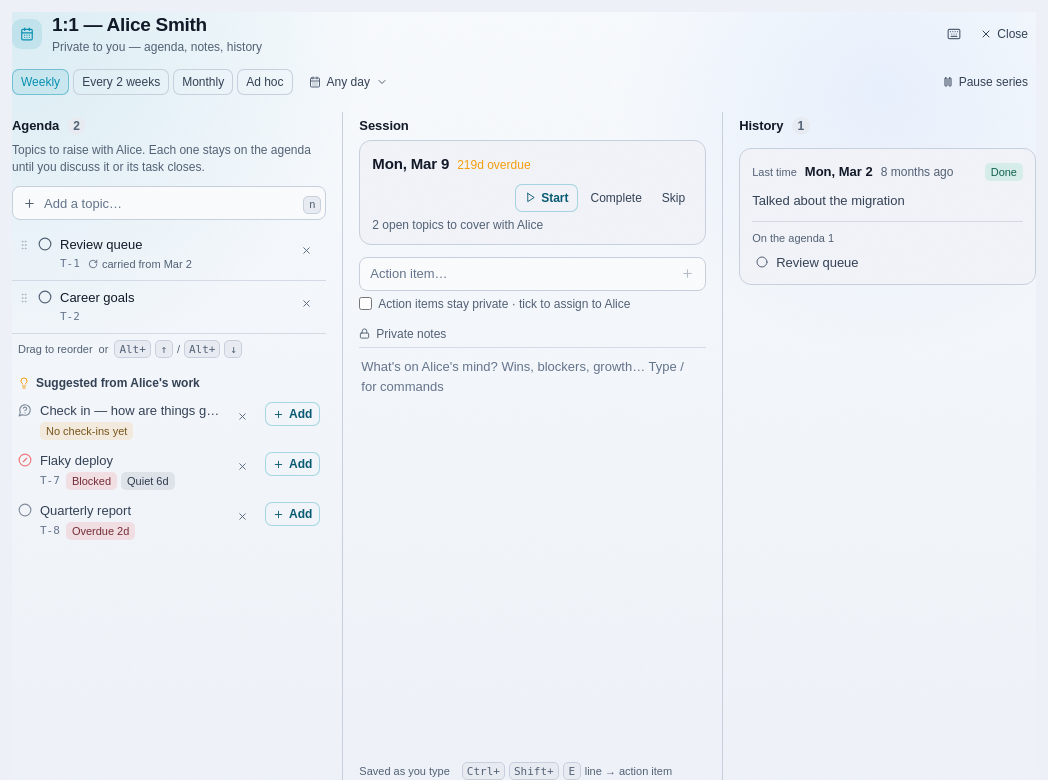
OneOnOneWorkspace — agenda guidance and suggestions › offers one-tap suggestions with reasons, including a no-check-in topic
The width and height of the screenshot is (1048, 780).
Expected: the heading "Suggested from Alice's work" is shown, [36, 374, 200, 392]
Expected: the text "Blocked" is shown, [66, 472, 117, 490]
Click the button with aria-label "Add to agenda: Flaky deploy" at (293, 464), box [265, 452, 320, 476]
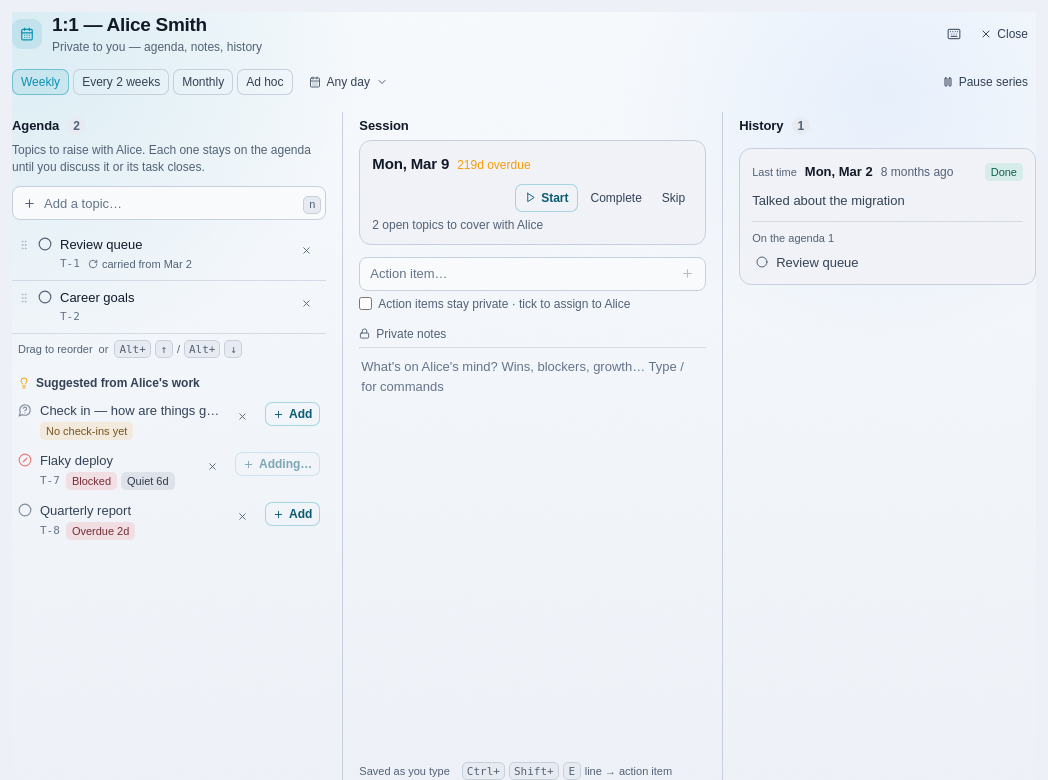
Click the button with aria-label "Add to agenda: Check in — how are things going?" at (293, 414), box [265, 402, 320, 426]
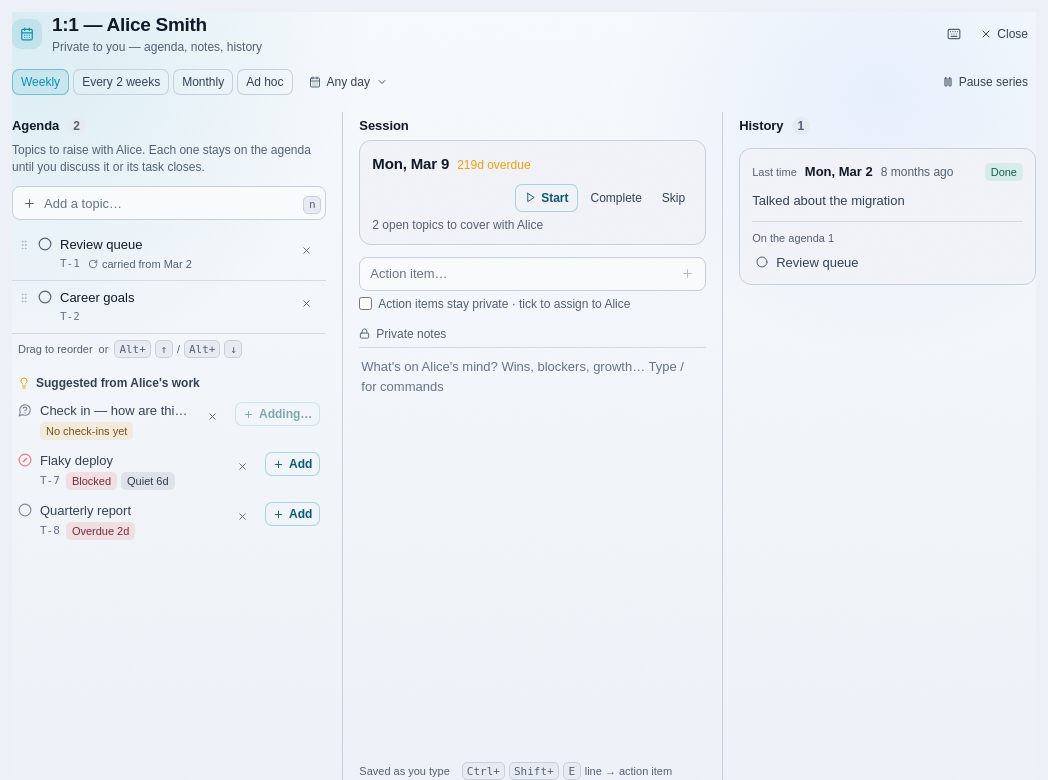
Click the button named "Dismiss suggestion: Quarterly report" at (243, 516), box [229, 502, 257, 530]
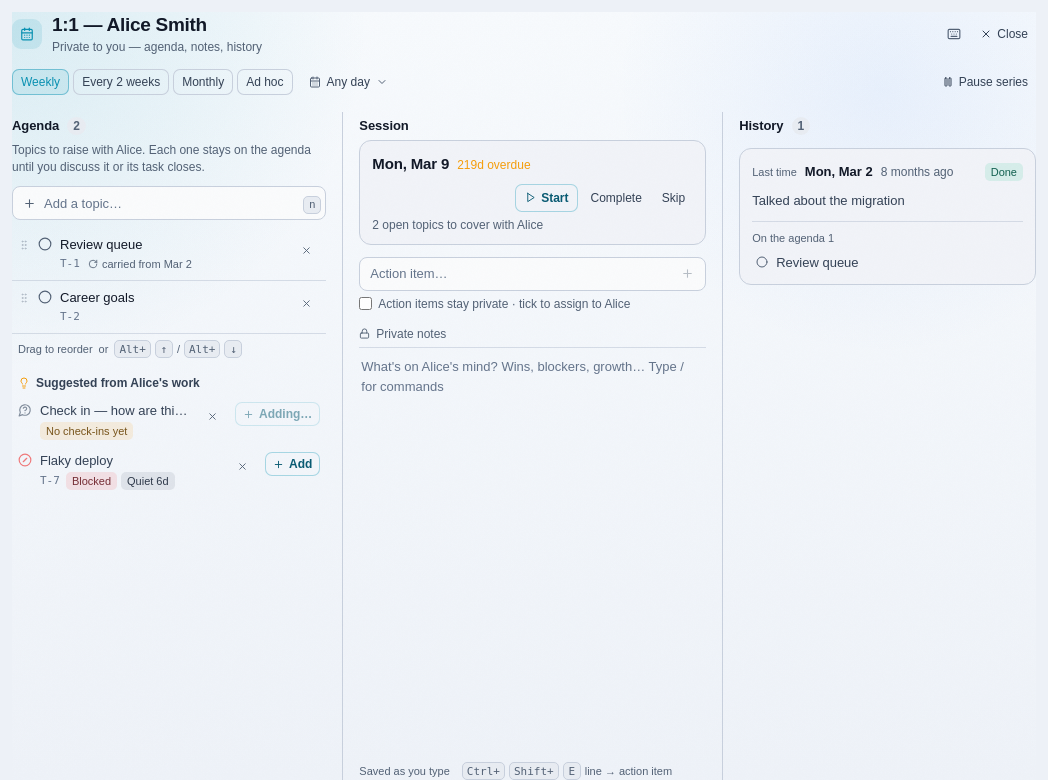
Expected: the text "Quarterly report" is gone
